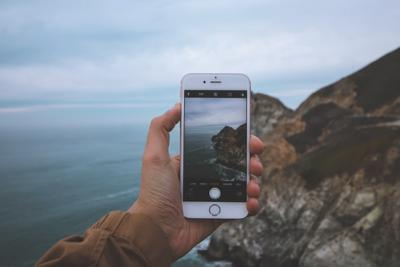cell-phone: (181, 73, 248, 222)
